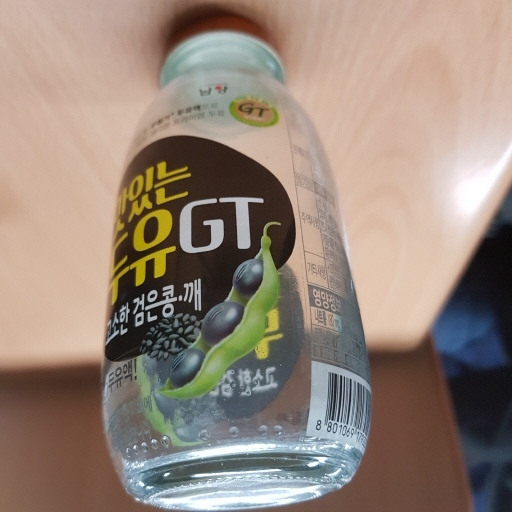Glass_4: (98, 18, 379, 506)
